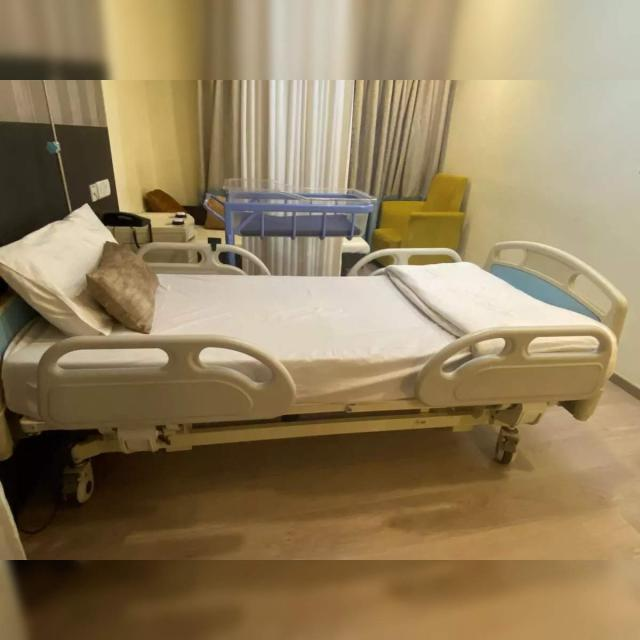bed: (0, 238, 628, 503)
sofa: (370, 172, 470, 267)
